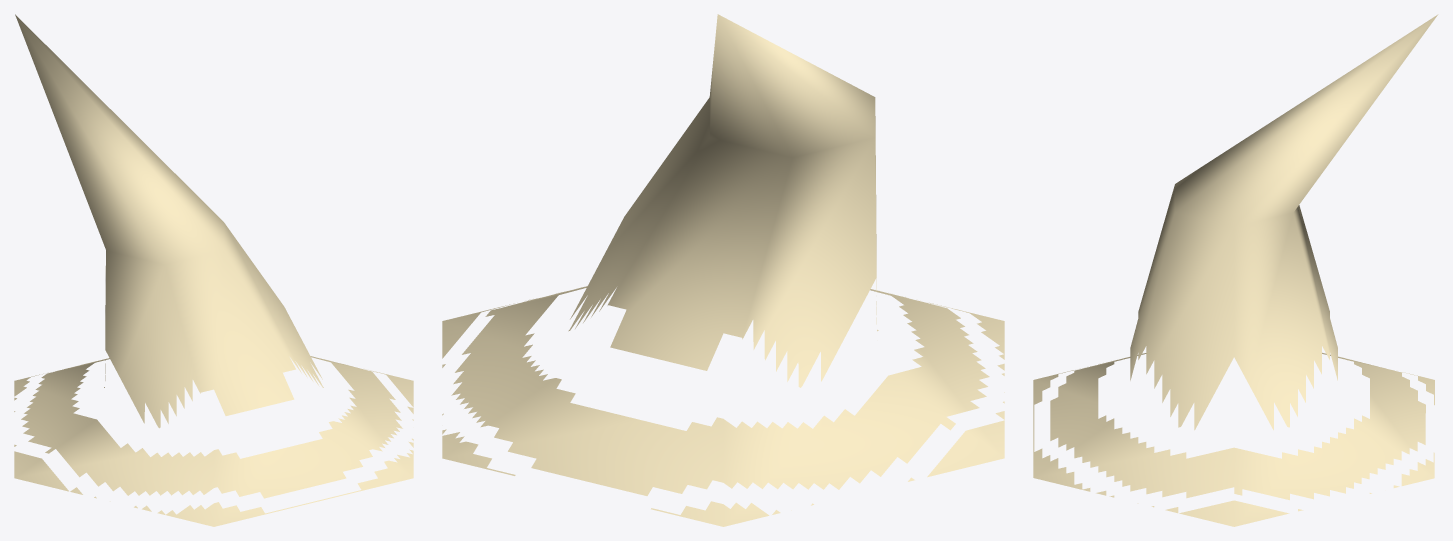
Rendered from Hat2.FBX.
3 views of the same model, side by side, from view 1: azimuth 30°, elevation 25°; view 2: azimuth 150°, elevation 25°; view 3: azimuth 270°, elevation 25° (orthographic). The views are drawn at different scales.
Visible parts, largest first — view 1: Cylinder001; view 2: Cylinder001; view 3: Cylinder001.
Part boxes in pixels (x1,y1,x2,y2): Cylinder001: (14, 14, 413, 526); Cylinder001: (442, 14, 1004, 526); Cylinder001: (1033, 14, 1438, 526).
Bounding box in the file's own units: 36.28 × 31.7 × 31.7.
